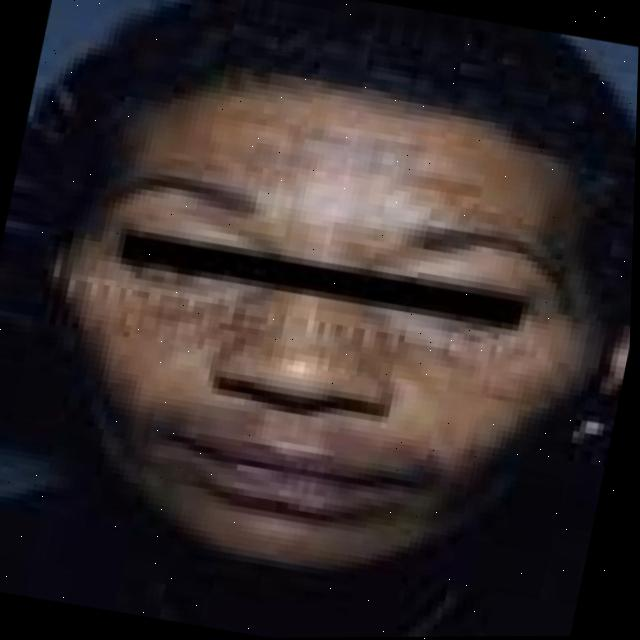Melasma: (91, 261, 217, 362), (399, 331, 506, 414)
